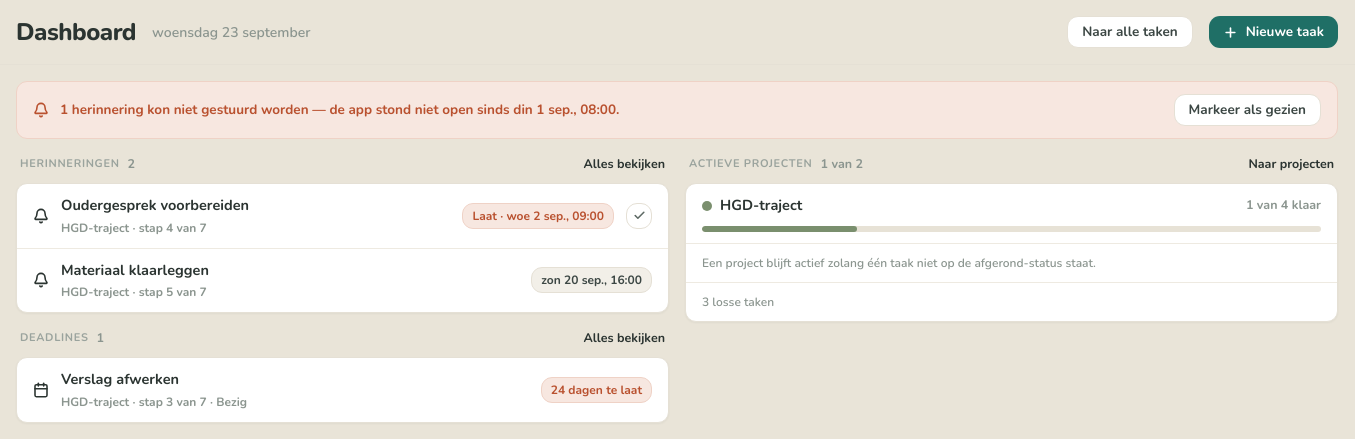
it: Dashboard › 'Markeer als gezien' laat de late-rij uit de banner én de sectie vallen
Expected: the text "1 herinnering kon niet gestuurd worden" is shown, [60,100,619,119]
Click the button "Markeer als gezien" at x=1247, y=110, box [1174,94,1321,126]
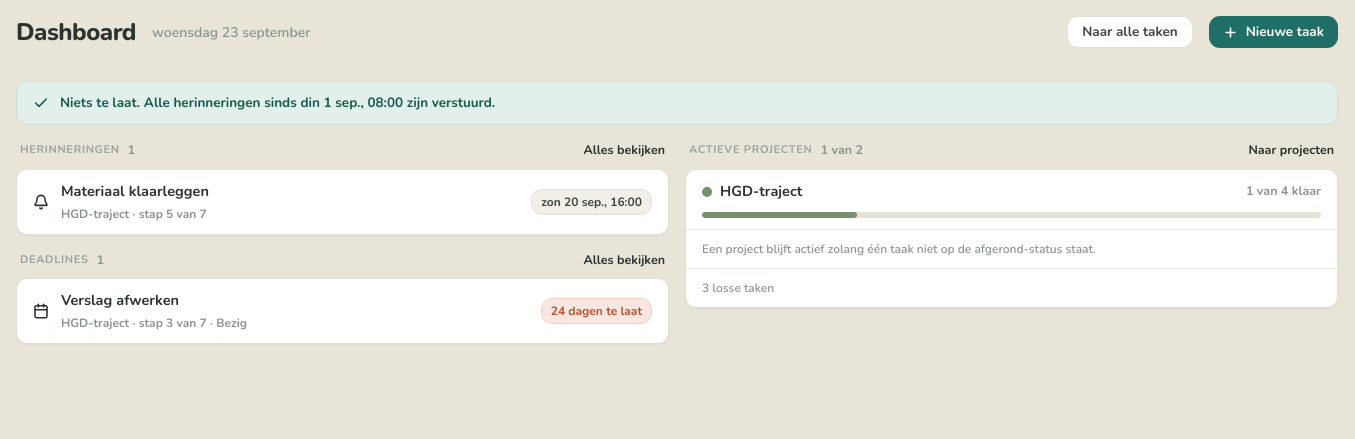
Expected: the text "Niets te laat" is shown, [60,93,137,112]
Expected: the button "Oudergesprek voorbereiden" is gone
